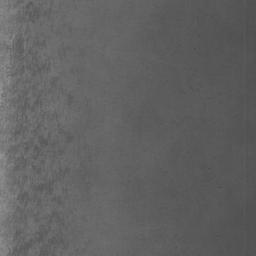Silk spot: (0, 0, 91, 256), (78, 146, 92, 192), (120, 167, 140, 192)
